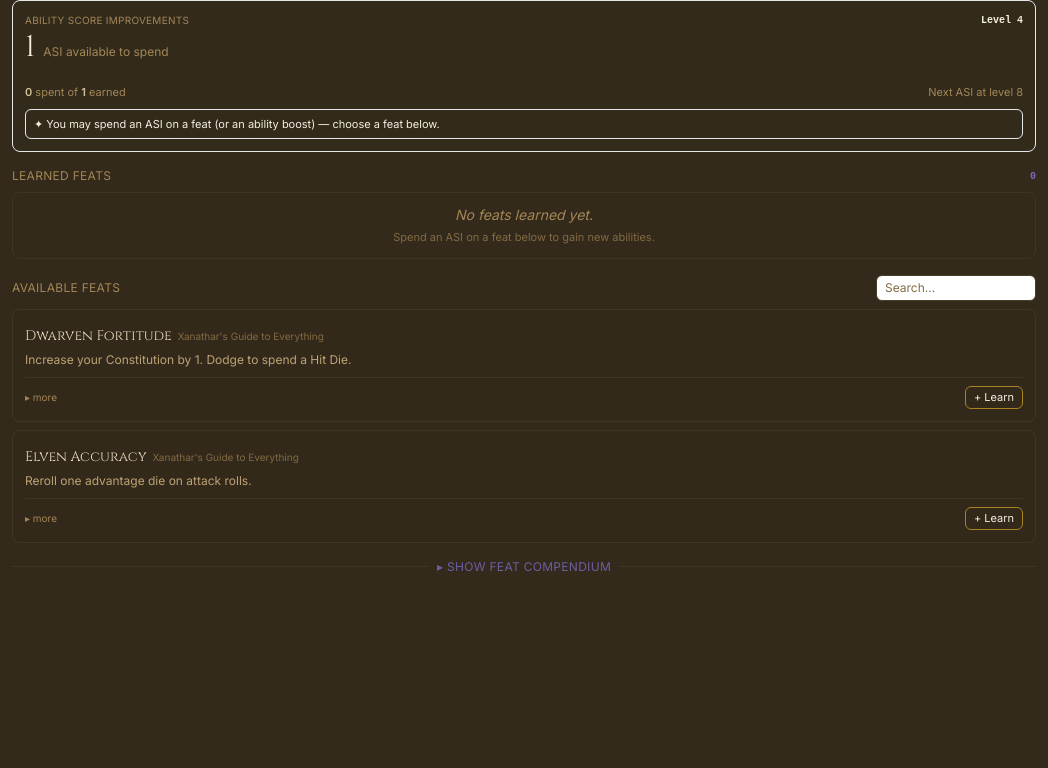
Test: FeatsPanel — race prerequisite display › shows the race requirement in the prerequisite text
Click the button "Dwarven Fortitude": (98,335) [25,322,1023,346]
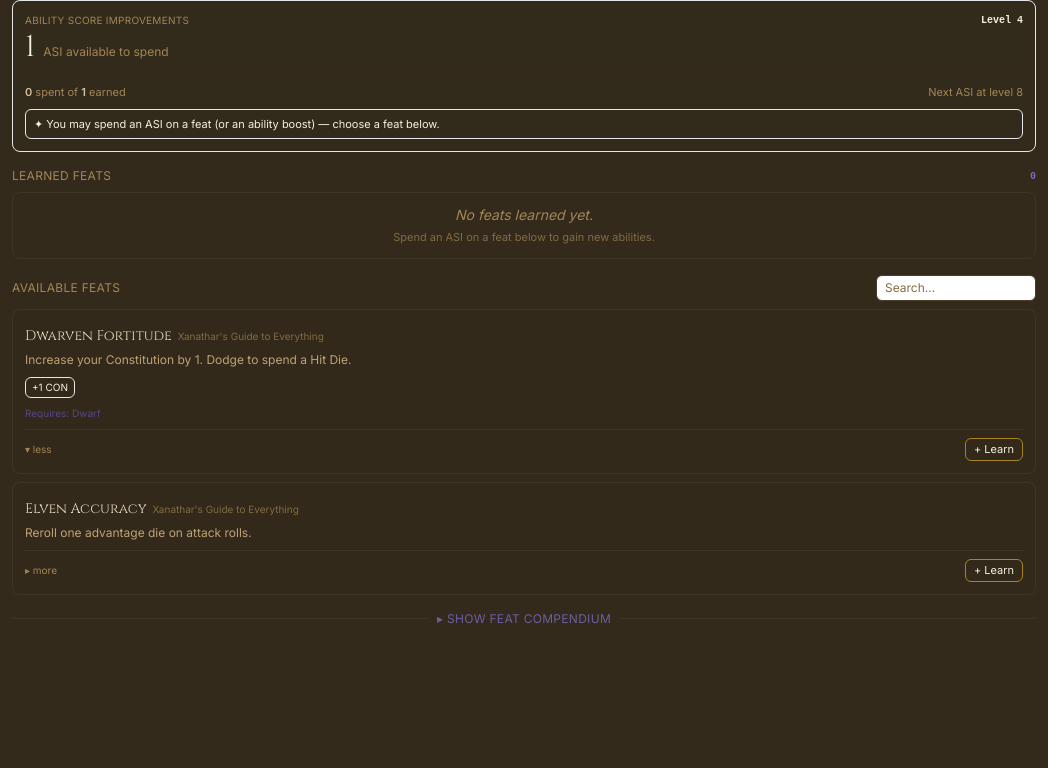
Check: the text "Requires: Dwarf" is shown, box [25,407,101,419]
Note: Elven Accuracy lists both Elf and Half-Elf.
Click the button "Elven Accuracy": (86,508) [25,494,1023,518]
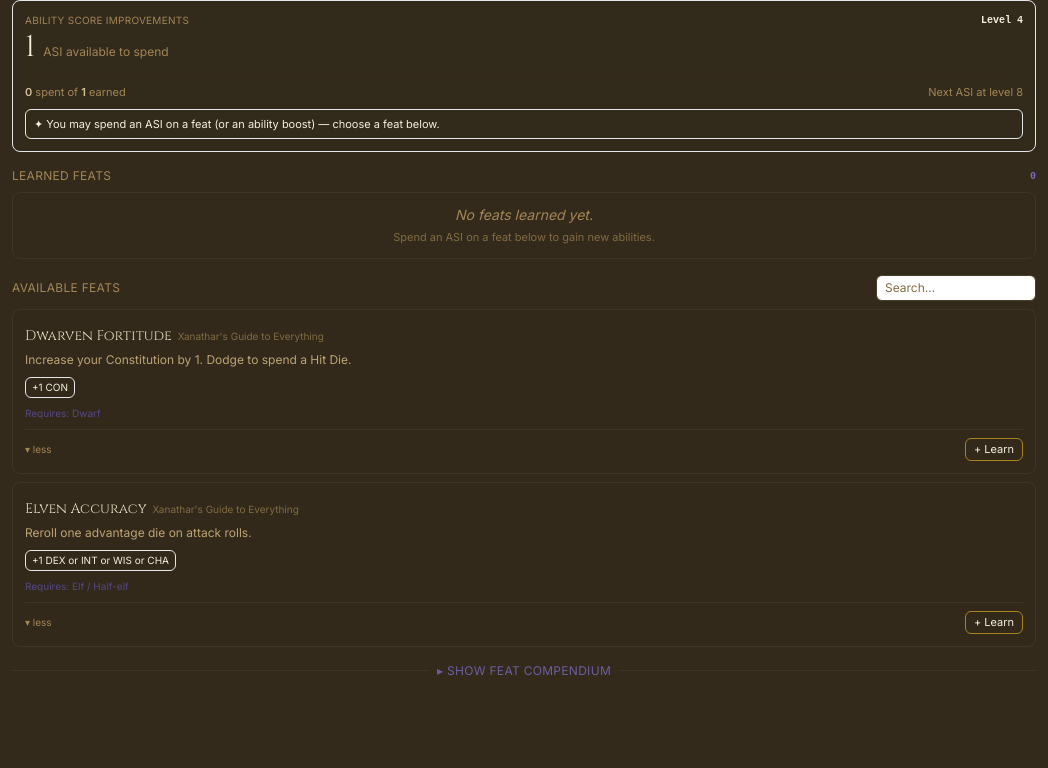
Check: the text "Requires: Elf / Half-elf" is shown, box [25,580,129,592]
